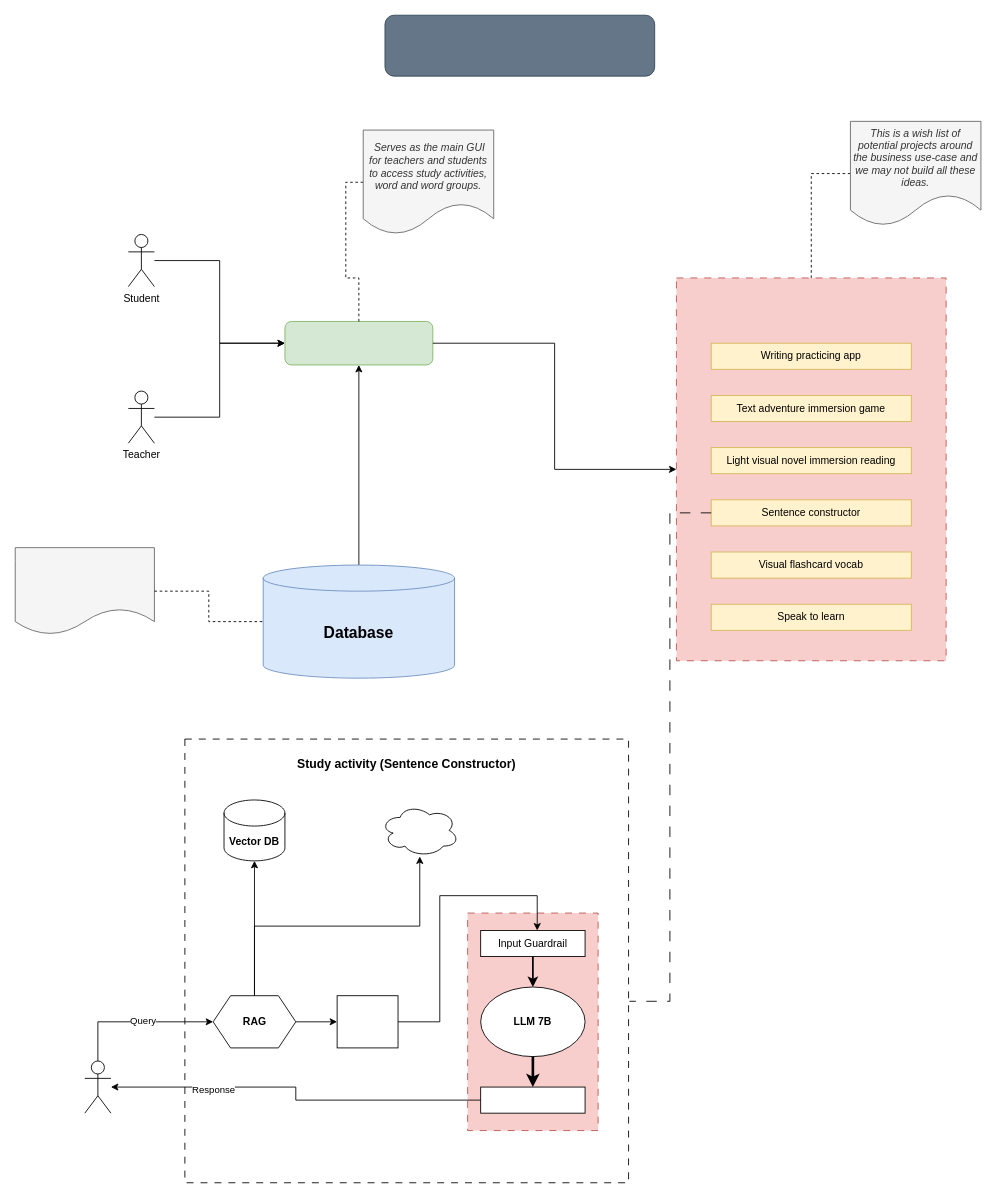
The diagram is 996 pixels wide and 1198 high, and some of its shapes have lost their labels. The shapes that lost their labels are listed below. From the top down, each one's box as (x1, y1, x2, y2) in pixels, then its label:
(384, 14, 655, 76): CONCEPTUAL DIAGRAM
(284, 321, 433, 365): LANG PORTAL
(676, 277, 946, 661): STUDY ACTIVITIES
(14, 547, 154, 635): 2000 words + other necessary data
(380, 803, 459, 857): Internet
(336, 995, 398, 1048): Prompt Cache
(84, 1060, 111, 1113): User
(480, 1086, 585, 1113): Output Guardrail
